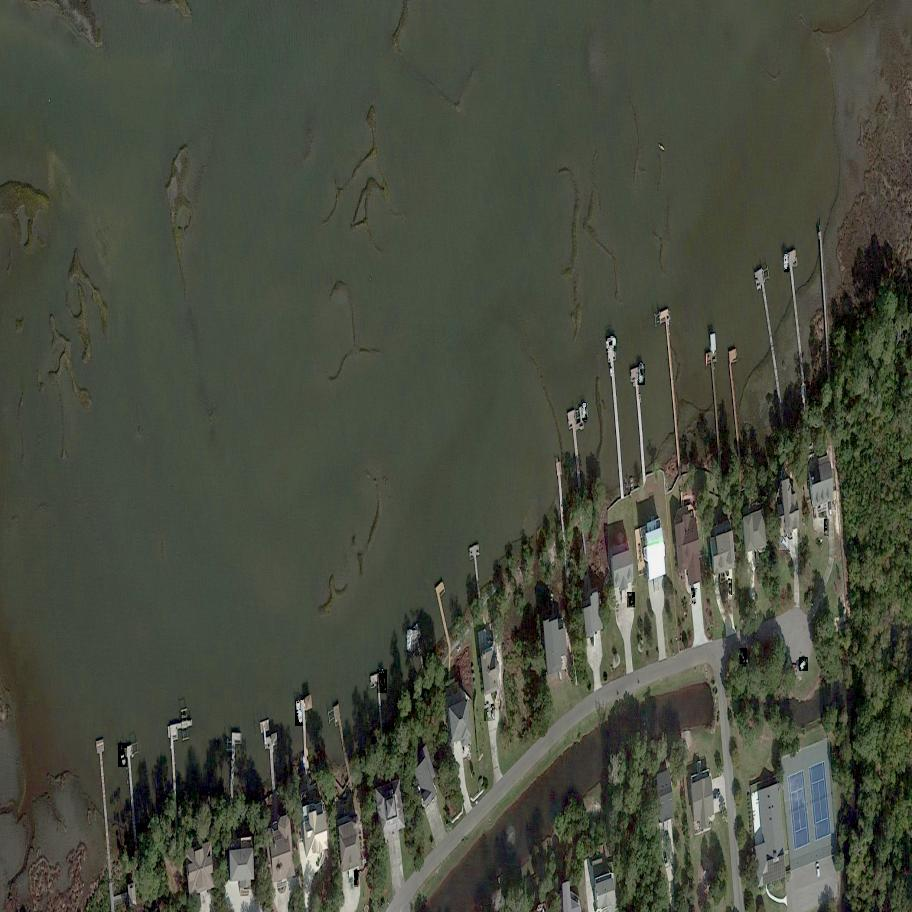ship: (377, 670, 389, 693), (118, 743, 128, 767), (295, 700, 303, 726), (606, 336, 619, 351), (638, 364, 645, 385), (407, 630, 413, 653), (784, 254, 789, 272), (583, 403, 587, 419)
small-vehicle: (776, 537, 791, 551), (798, 657, 810, 672), (484, 704, 494, 721), (739, 648, 748, 664), (626, 593, 635, 608), (690, 588, 697, 606), (825, 519, 830, 536), (492, 706, 498, 720), (355, 871, 360, 886), (730, 579, 732, 595)
